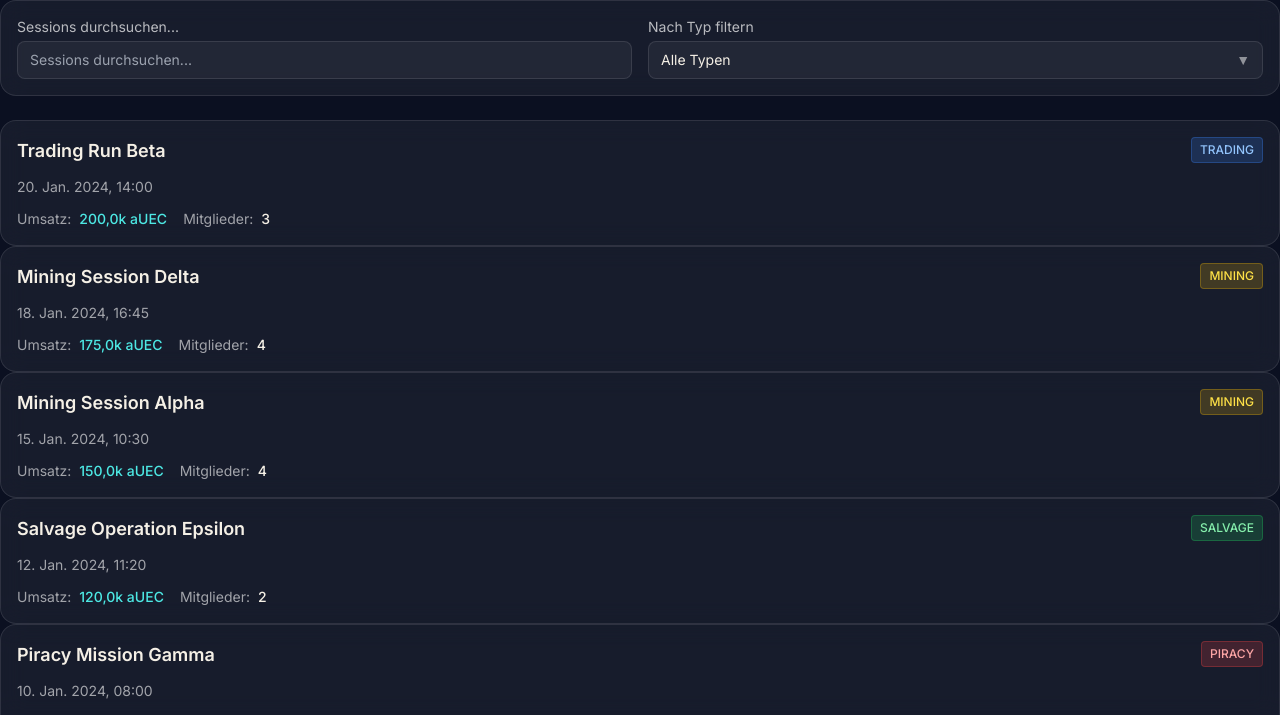
Test: SessionList - Translations › should show German empty state message
This screenshot has width=1280, height=715.
In the field with placeholder "Sessions durchsuchen...": (324, 60) [17,41,632,79], type "nonexistent"
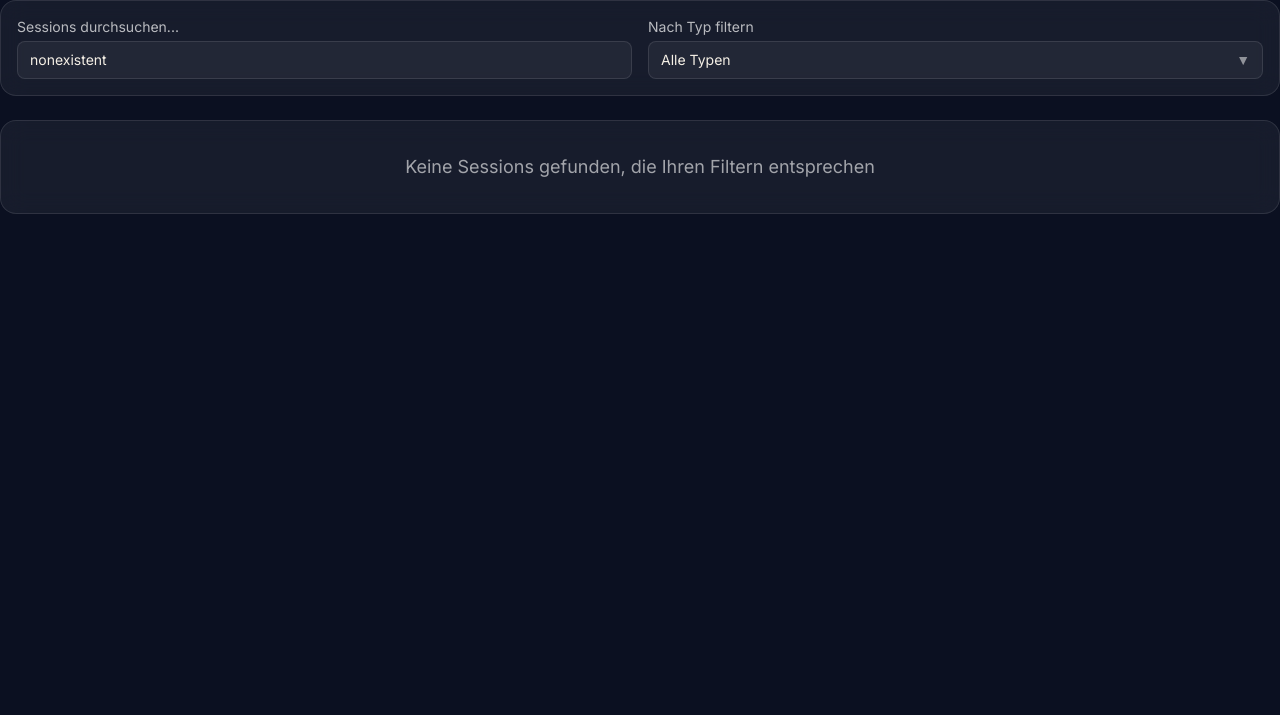
Now the text "Keine Sessions gefunden, die Ihren Filtern entsprechen" is shown, box [405,156,875,177]
